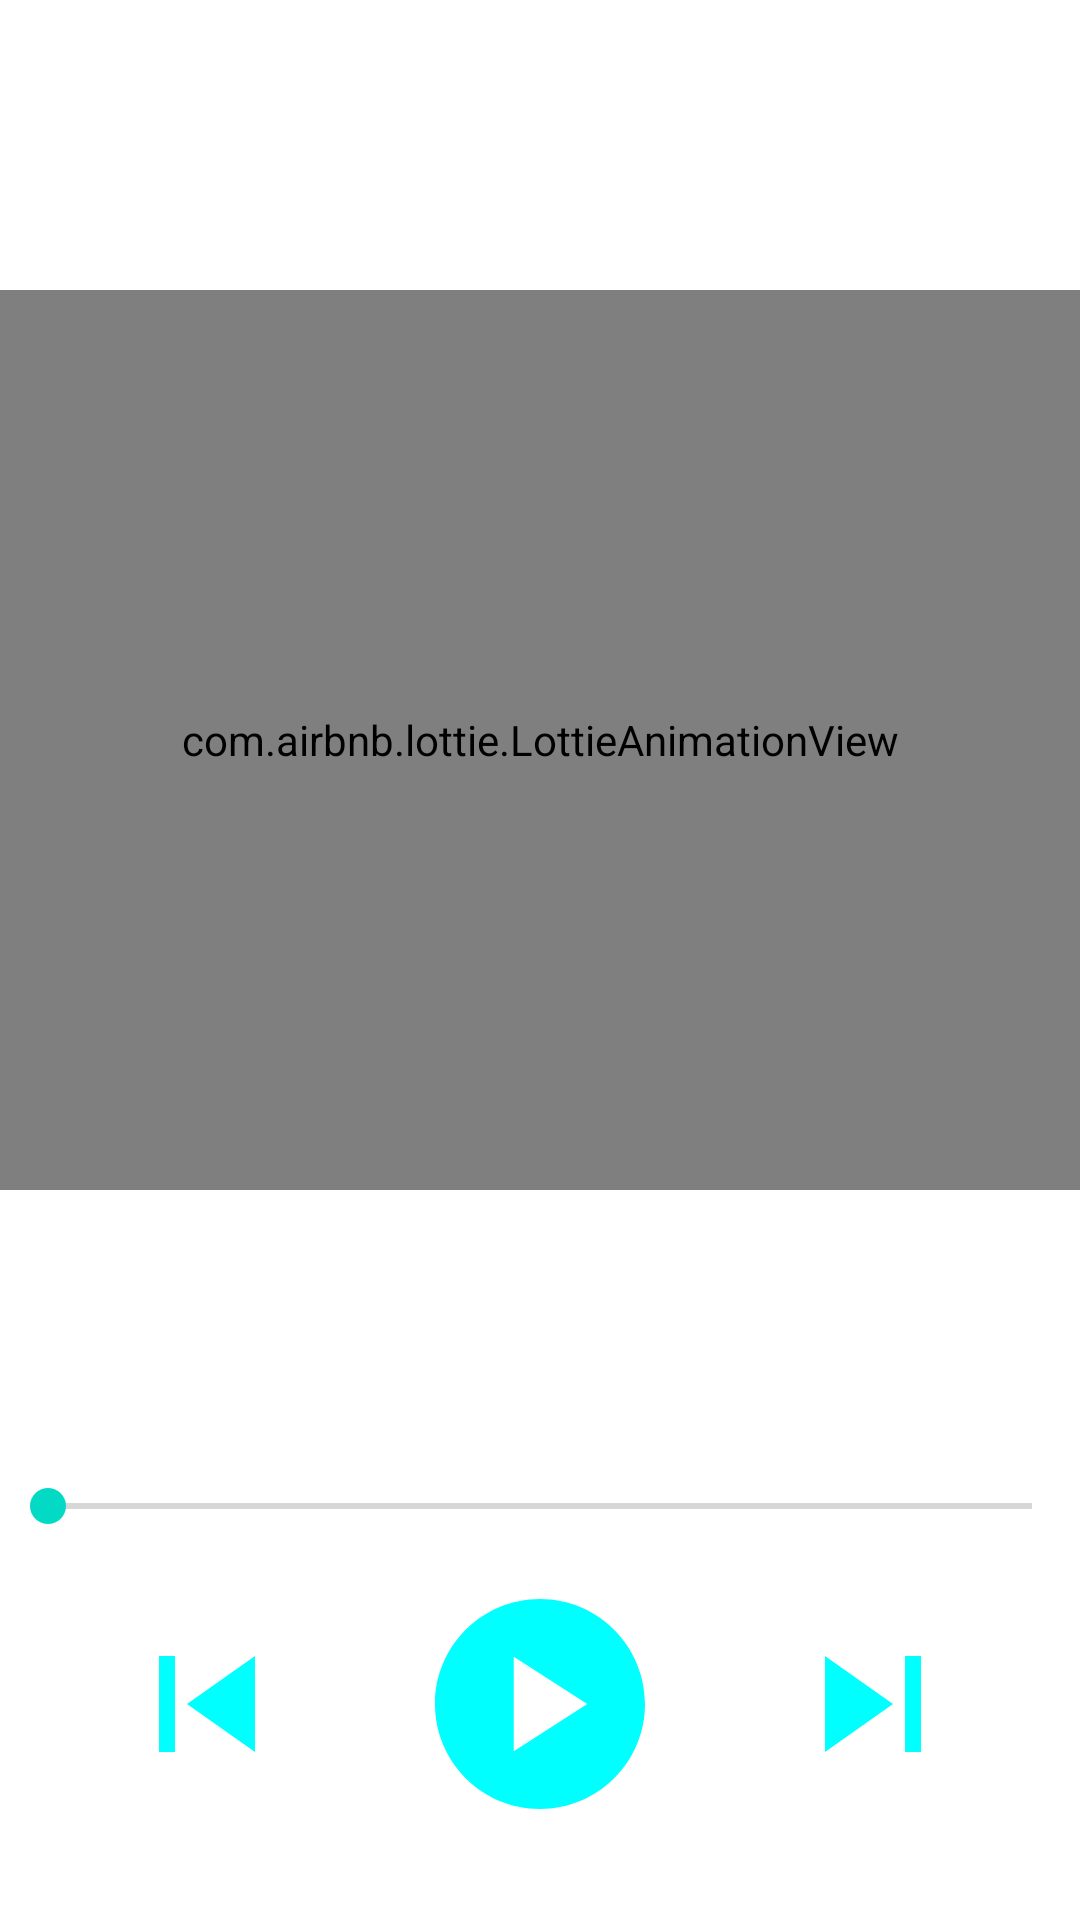

Locate icon controls on the screen. Image size 1080w x 1920h, boxes as (x1, y1, x2, y2).
play circle: (435, 1599, 645, 1809)
skip next: (825, 1656, 921, 1752)
skip previous: (159, 1656, 255, 1752)
